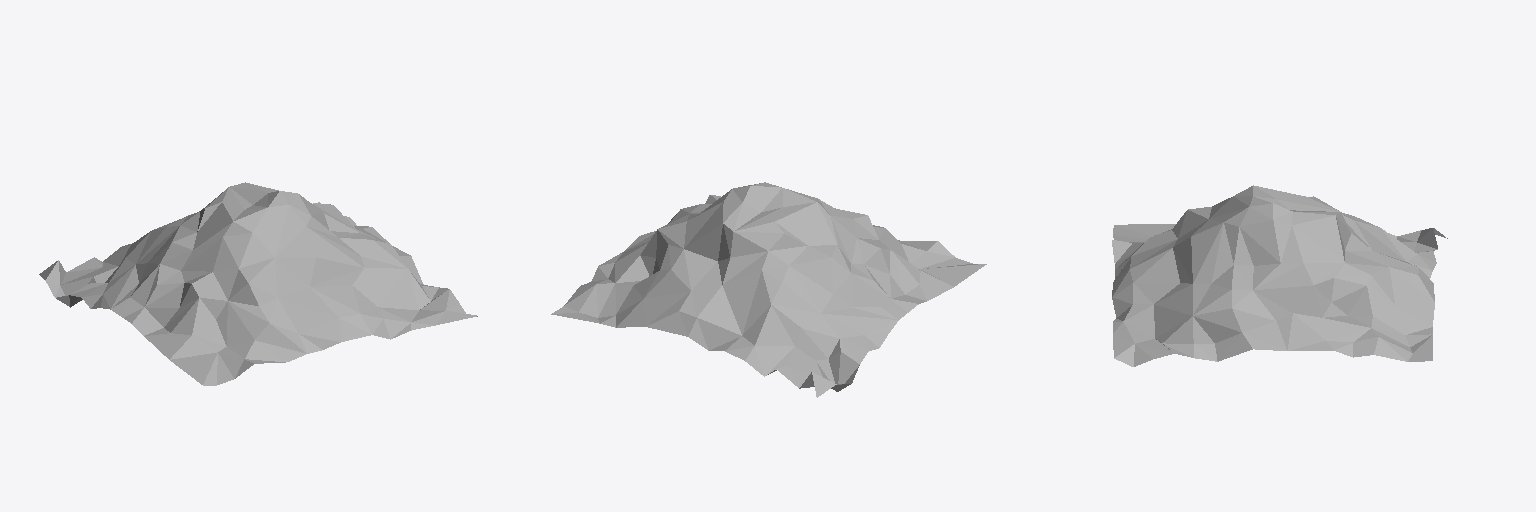
File: gray_hill.obj
The picture shows the model from 3 angles: view 1: azimuth 30°, elevation 25°; view 2: azimuth 150°, elevation 25°; view 3: azimuth 270°, elevation 25°; orthographic projection.
Parts seen in each view (by area): view 1: mountain_snow:Mesh mountain_snow:polySurface1; view 2: mountain_snow:Mesh mountain_snow:polySurface1; view 3: mountain_snow:Mesh mountain_snow:polySurface1.
Part boxes in pixels (x1,y1,x2,y2): mountain_snow:Mesh mountain_snow:polySurface1: (39, 182, 477, 385); mountain_snow:Mesh mountain_snow:polySurface1: (551, 182, 986, 397); mountain_snow:Mesh mountain_snow:polySurface1: (1112, 185, 1447, 366).
Bounding box in the file's own units: 12.41 × 5.22 × 12.7.